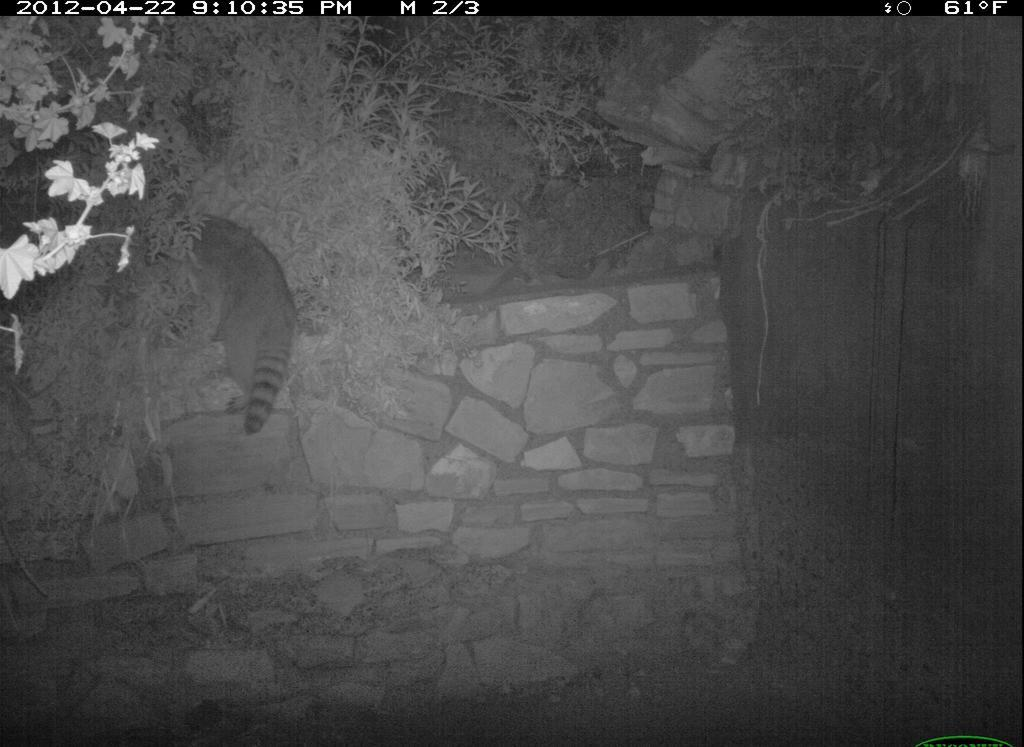raccoon: (145, 194, 323, 454)
